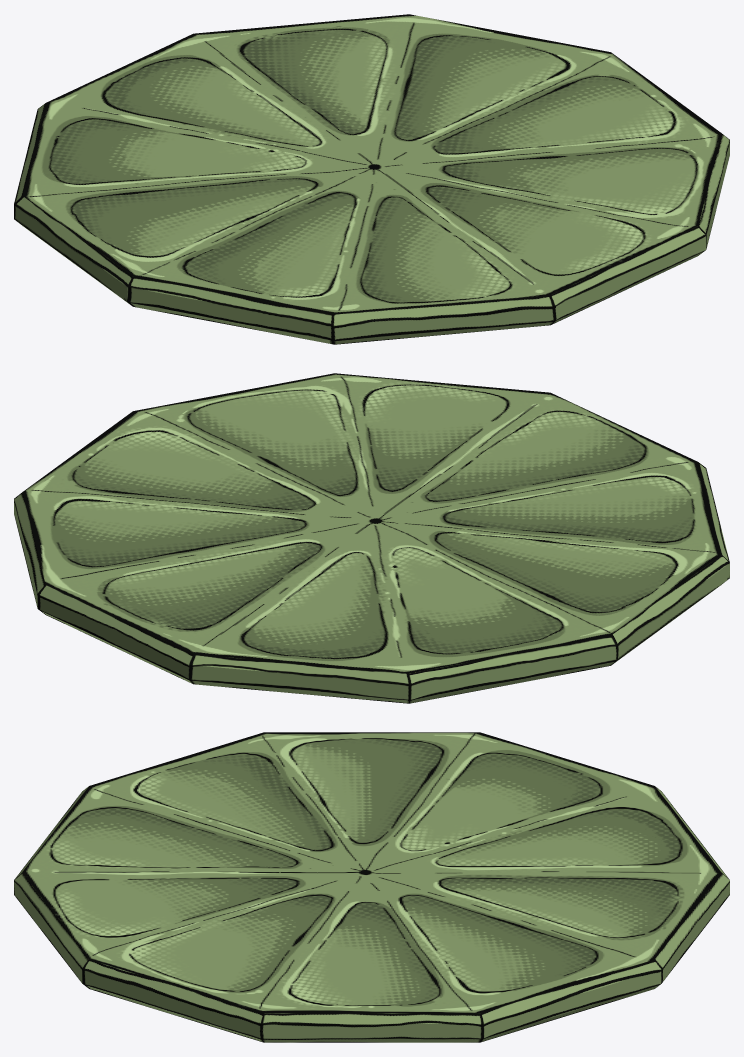
The model's file is Leaf_Platform_Green_22m.fbx.
3 views of the same model, one above another, from view 1: azimuth 30°, elevation 25°; view 2: azimuth 150°, elevation 25°; view 3: azimuth 270°, elevation 25° (orthographic). The views are drawn at different scales.
Parts seen in each view (by area): view 1: Cylinder.002; view 2: Cylinder.002; view 3: Cylinder.002.
Boxes of the visible parts, x1,y1,x2,y2 form: Cylinder.002: (14,14,729,344); Cylinder.002: (14,373,729,703); Cylinder.002: (14,732,729,1042).
Size of the model in its own units: 2092 by 2200 by 100.
